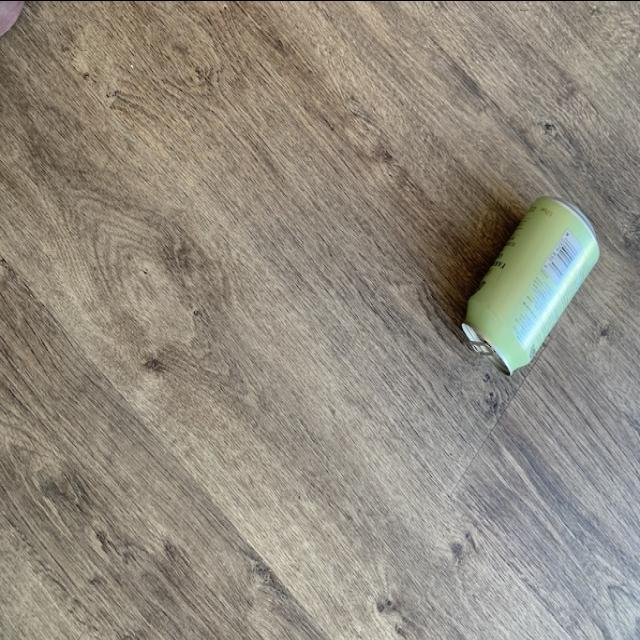Aluminum Can: (462, 195, 600, 376)
